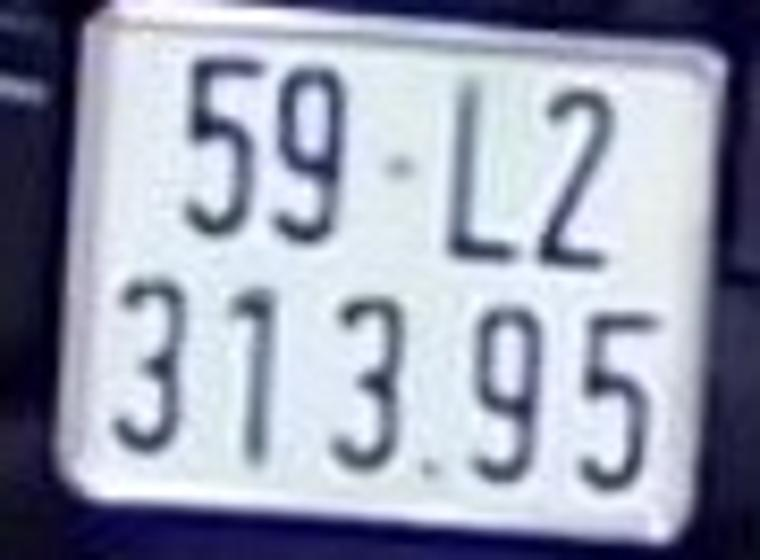-: (376, 151, 412, 179)
.: (420, 451, 445, 480)
1: (224, 287, 274, 464)
2: (543, 88, 613, 269)
3: (331, 293, 403, 473), (115, 279, 184, 448)
5: (582, 313, 655, 491), (182, 52, 253, 233)
9: (277, 63, 342, 253), (475, 311, 543, 476)
L: (454, 71, 513, 262)
